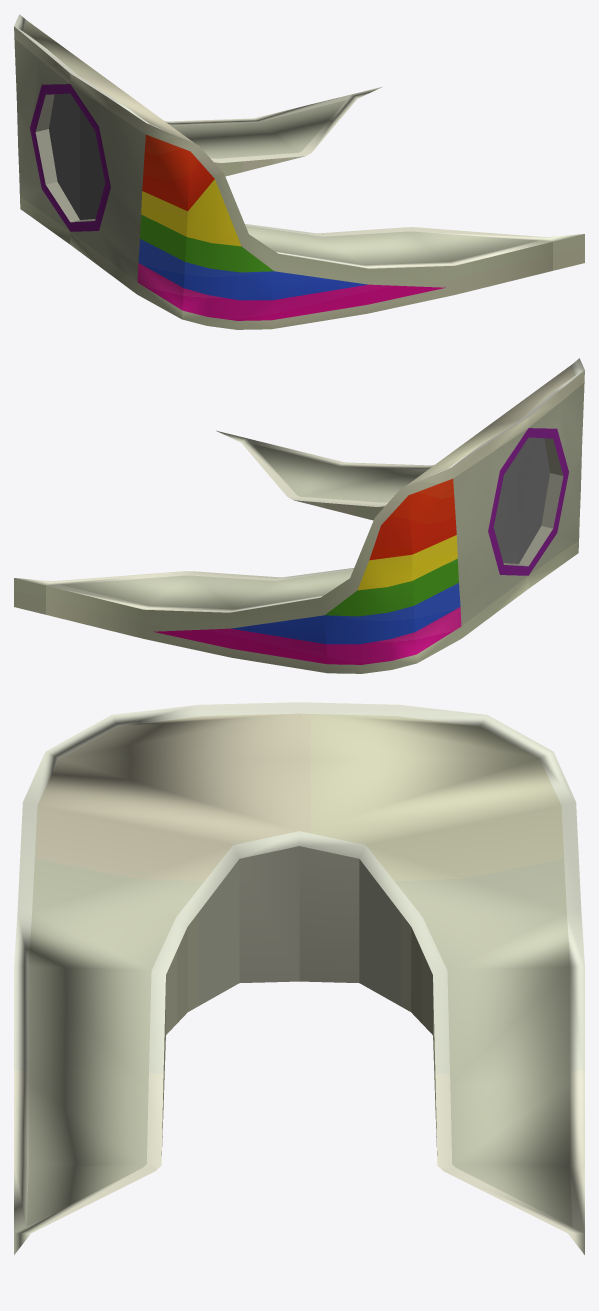
Rendered from FlowerTrail_Power.glb.
3 views of the same model, one above another, from view 1: azimuth 30°, elevation 25°; view 2: azimuth 150°, elevation 25°; view 3: azimuth 270°, elevation 25° (orthographic). The views are drawn at different scales.
Parts seen in each view (by area): view 1: FlowerTrail_Power; view 2: FlowerTrail_Power; view 3: FlowerTrail_Power.
Part boxes in pixels (x1=…): FlowerTrail_Power: x1=14, y1=14, x2=584, y2=329; FlowerTrail_Power: x1=14, y1=358, x2=584, y2=673; FlowerTrail_Power: x1=14, y1=702, x2=584, y2=1254.
Size of the model in its own units: 4.61 by 2.31 by 3.88.
1 material, 1 textured.
